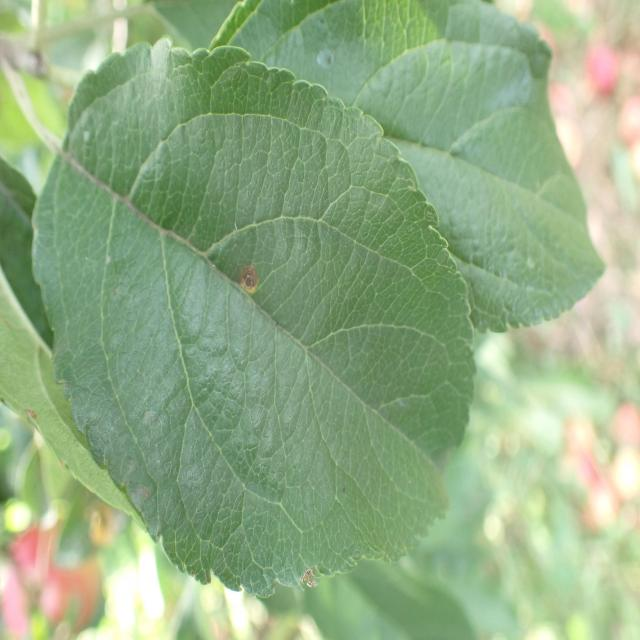Rust: (226, 253, 264, 319)
